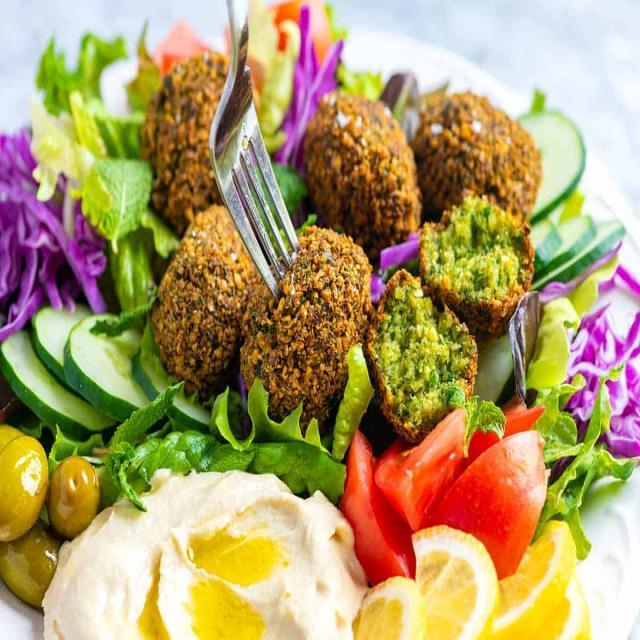flafel: (249, 232, 364, 435), (366, 269, 476, 435), (302, 87, 418, 244), (152, 205, 242, 403), (412, 88, 544, 204), (422, 197, 536, 327)
